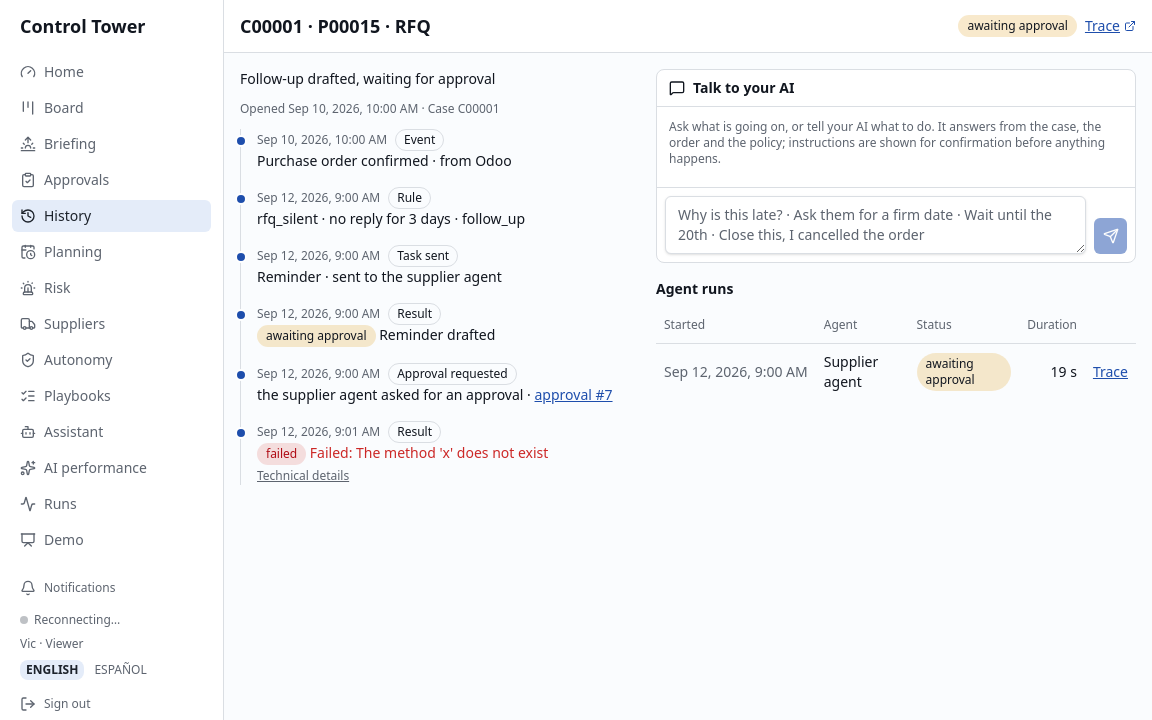
Test case: cases › shows the timeline from event to approval and the agent runs
Expected: the number of list items is 6, [257,129,512,170]; [257,187,525,228]; [257,245,502,286]; [257,303,495,347]; [257,363,640,405]; [257,421,548,484]
Expected: the list item that starts with "Sep 10, 2026, 10:00 AM" shows "Purchase order confirmed · from Odoo", [257,151,512,170]
What coordinates should you click on to do the following:
click the button "Technical details"
I would click on:
 (303, 476)
Its box is [257,468,349,484].
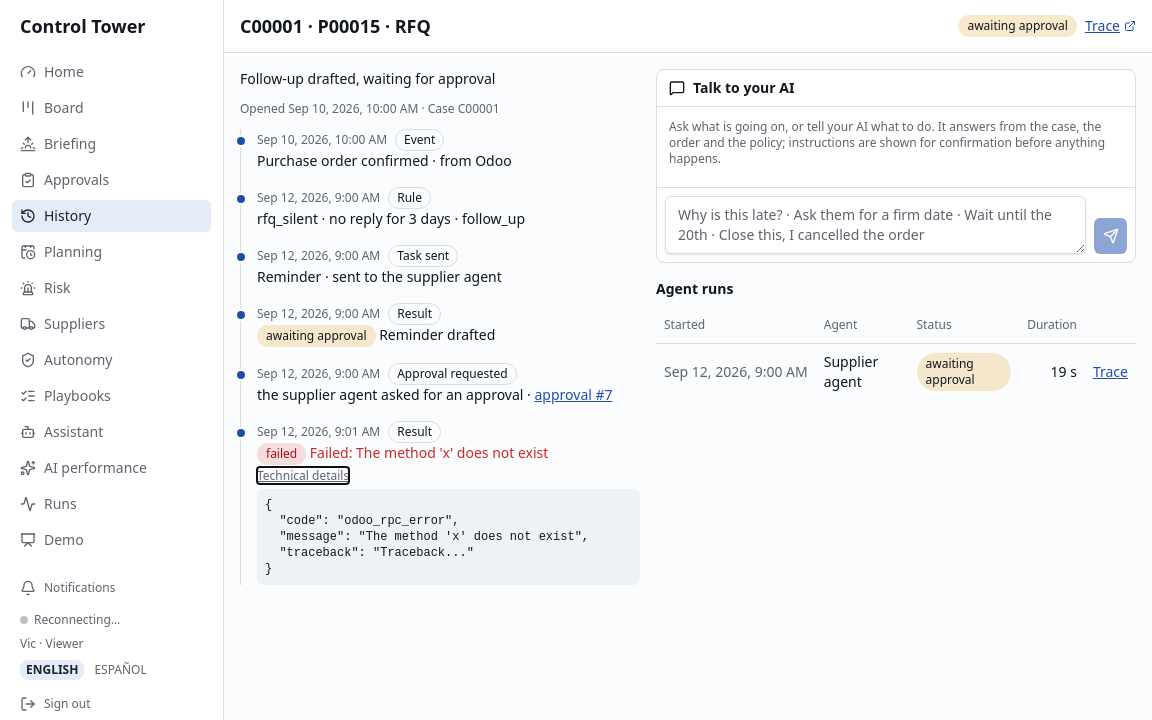
Expected: the text "Case C00001" is shown, [428,100,500,117]
Now the list item that starts with "Sep 12, 2026, 9:01 AM" shows "odoo_rpc_error", box [265,498,589,576]
